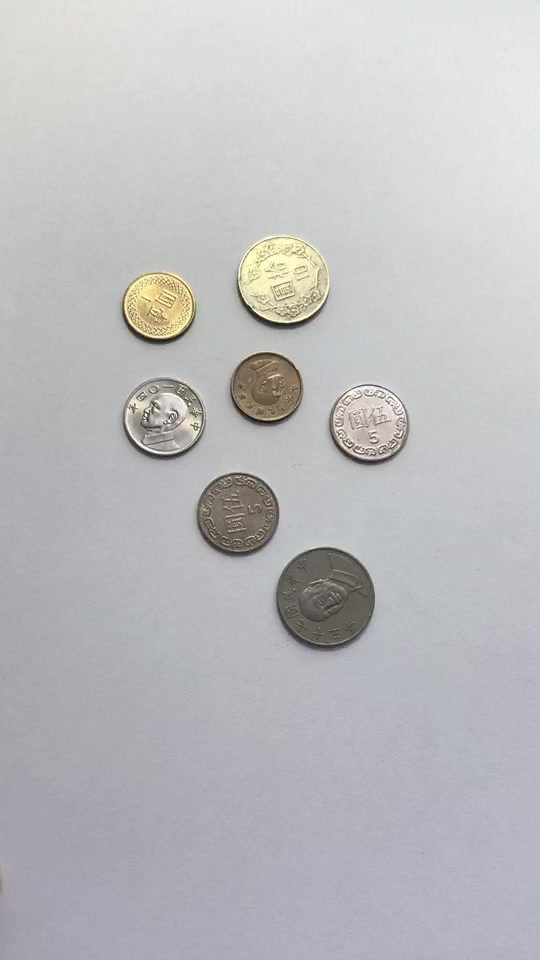1 dallar: (112, 261, 205, 348), (222, 347, 308, 430)
10 dallar: (229, 225, 338, 333), (272, 544, 381, 652)
5 dallar: (117, 372, 211, 463), (193, 467, 287, 558), (322, 376, 416, 467)
